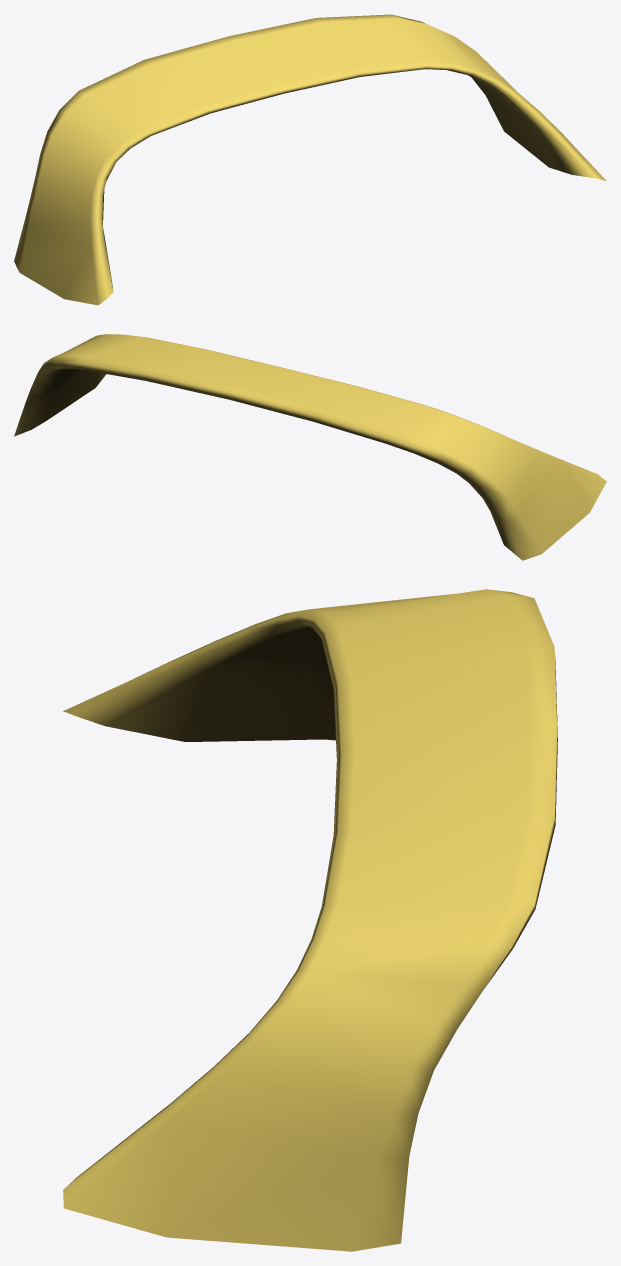
The model's file is Supra_Spoiler_01_Duco.fbx.
3 renders of one model, top to bottom at view 1: azimuth 30°, elevation 25°; view 2: azimuth 150°, elevation 25°; view 3: azimuth 270°, elevation 25°, orthographic. The views are drawn at different scales.
Visible parts, largest first — view 1: Supra_Spoiler_01_Duco; view 2: Supra_Spoiler_01_Duco; view 3: Supra_Spoiler_01_Duco.
Part boxes in pixels (left/top/right/bottom): Supra_Spoiler_01_Duco: left=14, top=14, right=606, bottom=305; Supra_Spoiler_01_Duco: left=14, top=334, right=606, bottom=560; Supra_Spoiler_01_Duco: left=63, top=589, right=557, bottom=1251.
Bounding box in the file's own units: 128 × 31.77 × 52.37.
